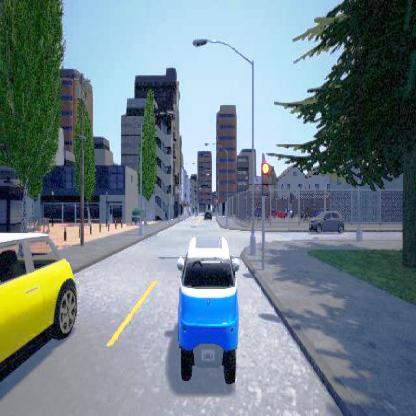vehicle: (0, 232, 76, 381), (176, 235, 238, 384), (308, 208, 344, 232), (203, 208, 212, 221)
